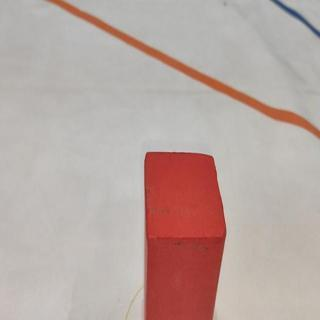redbox: (143, 148, 228, 320)
